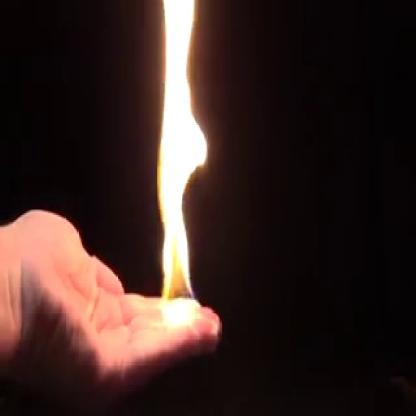fire: (141, 2, 207, 329)
